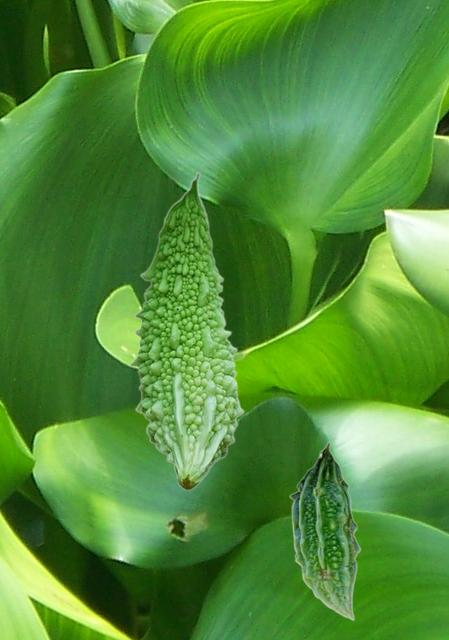ampalaya: (128, 171, 245, 491), (288, 441, 363, 621)
